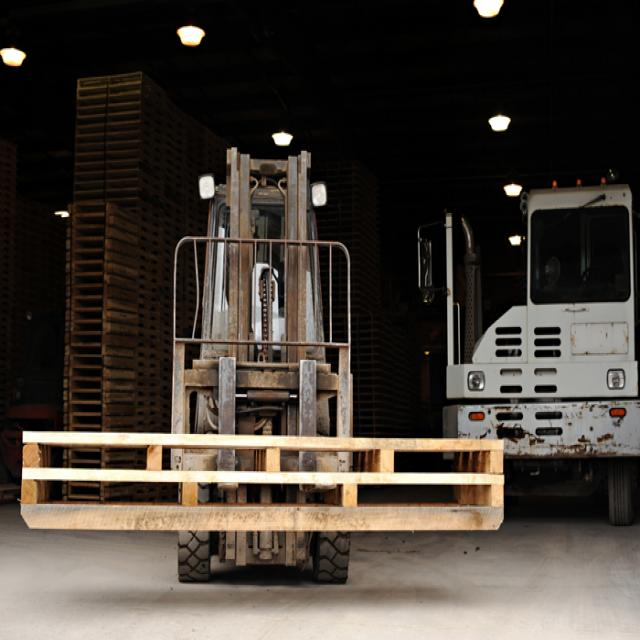Chariot elevateur: (166, 124, 365, 599), (0, 310, 62, 503)
Palette: (13, 426, 506, 539), (78, 70, 161, 441), (316, 157, 417, 432), (61, 193, 149, 507), (188, 116, 224, 353), (170, 100, 186, 427), (0, 136, 11, 503)
